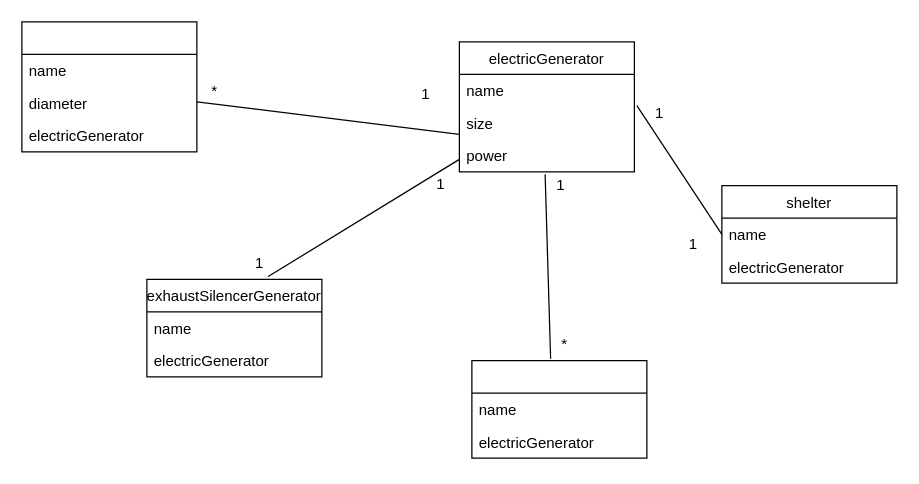
Some shapes in this 919 by 484 pixel diagram are drawn without their labels. The shapes that lost their labels are listed below. From the top down, each one's box as (x1, y1, x2, y2) in pixels, then its label:
(21, 21, 197, 152): exhaustPipes
(471, 359, 647, 458): Turboblock
